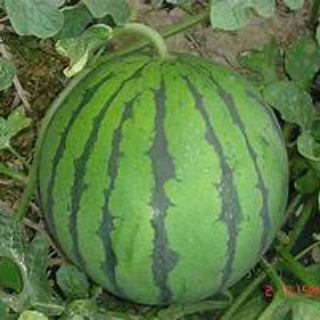dua_hau: (40, 43, 292, 313)
